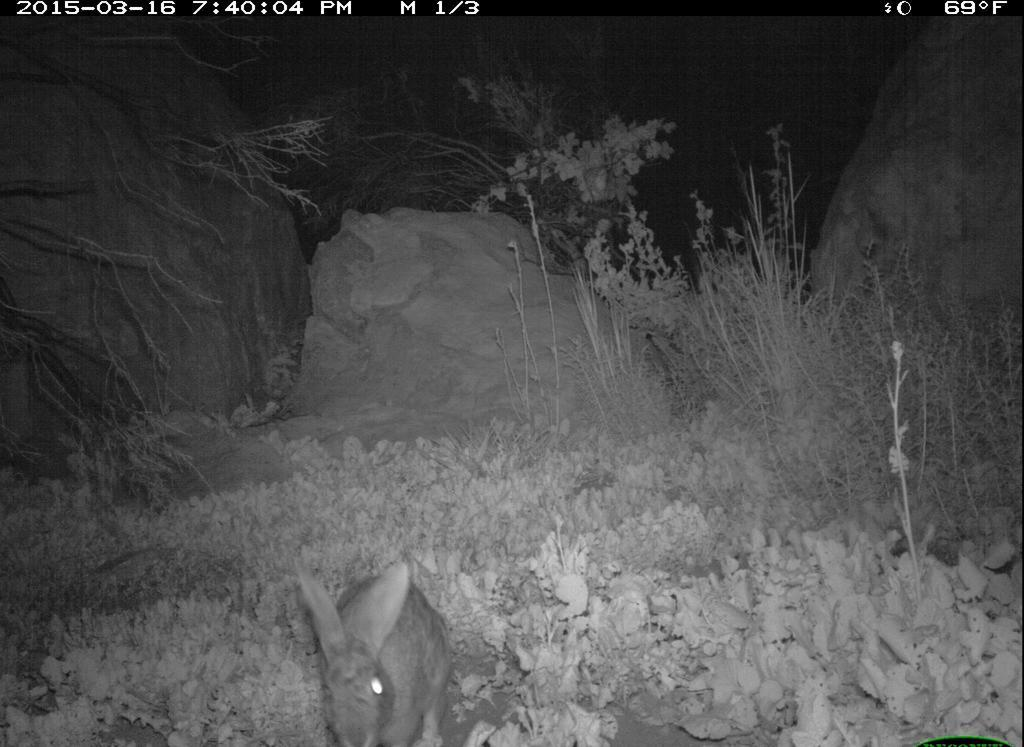rabbit: (290, 543, 457, 743)
